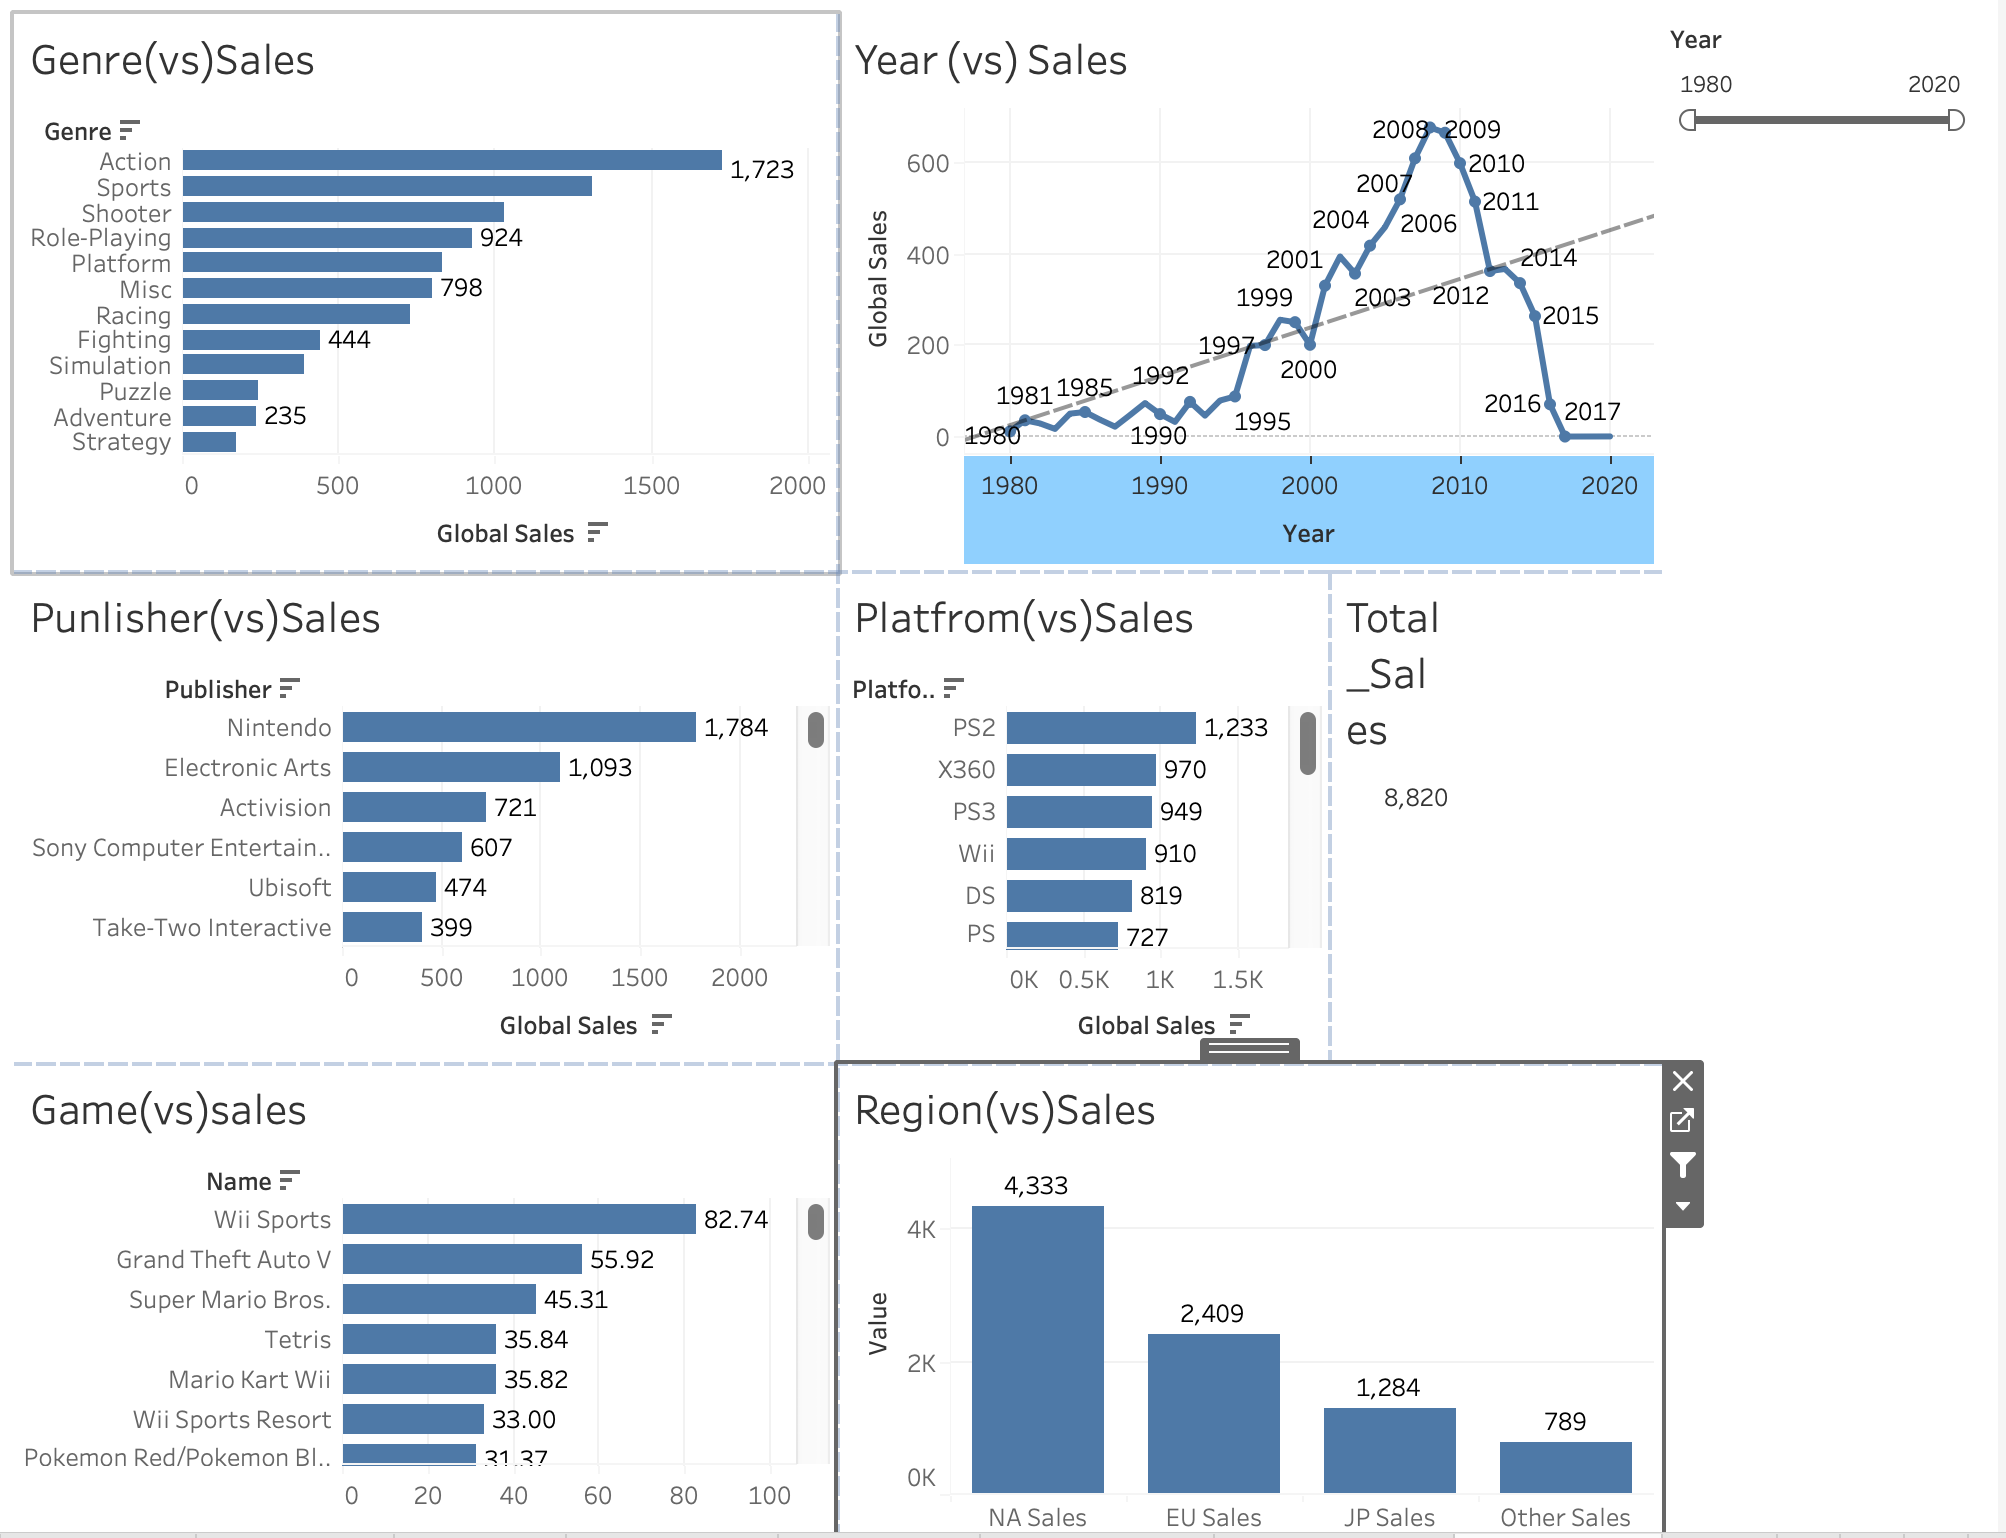

The page's visual inventory and layout, read from the dashboard file:
{"tool":"tableau","page":{"name":"Dashboard 1","canvas":[1000,800],"ordinal":0},"visuals":[{"type":"worksheet","title":"Genre(vs)Sales","mark":"Automatic","rows":["Genre"],"cols":["Global_Sales"],"box":[8,8,412,279]},{"type":"worksheet","title":"Year (vs) Sales","mark":"Automatic","rows":["Global_Sales"],"cols":["Year"],"box":[420,8,412,279]},{"type":"filter","title":"Year (vs) Sales","param":"[federated.0ilvwcf17awxbf14r40wr0lvo756].[none:Year:qk]","box":[832,8,160,69]},{"type":"worksheet","title":"Punlisher(vs)Sales","mark":"Automatic","rows":["Publisher"],"cols":["Global_Sales"],"box":[8,287,412,246]},{"type":"worksheet","title":"Platfrom(vs)Sales","mark":"Automatic","rows":["Platform"],"cols":["Global_Sales"],"box":[420,287,246,246]},{"type":"worksheet","title":"Total_Sales","mark":"Automatic","box":[666,287,166,246]},{"type":"worksheet","title":"Game(vs)sales","mark":"Automatic","rows":["Name"],"cols":["Global_Sales"],"box":[8,533,412,259]},{"type":"worksheet","title":"Region(vs)Sales","mark":"Automatic","box":[420,533,412,259]}]}

Visuals, with their boxes on the page's 1000x800 design canvas (x1, y1, x2, y2). These are canvas units, not pixel positions in the 2006x1538 screenshot, which may show the page scaled, cropped or inside an application window:
"Genre(vs)Sales" worksheet: left=8, top=8, right=420, bottom=287
"Year (vs) Sales" worksheet: left=420, top=8, right=832, bottom=287
"Year (vs) Sales" filter: left=832, top=8, right=992, bottom=77
"Punlisher(vs)Sales" worksheet: left=8, top=287, right=420, bottom=533
"Platfrom(vs)Sales" worksheet: left=420, top=287, right=666, bottom=533
"Total_Sales" worksheet: left=666, top=287, right=832, bottom=533
"Game(vs)sales" worksheet: left=8, top=533, right=420, bottom=792
"Region(vs)Sales" worksheet: left=420, top=533, right=832, bottom=792
